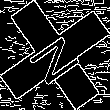N_NE: (23, 24, 87, 86)
